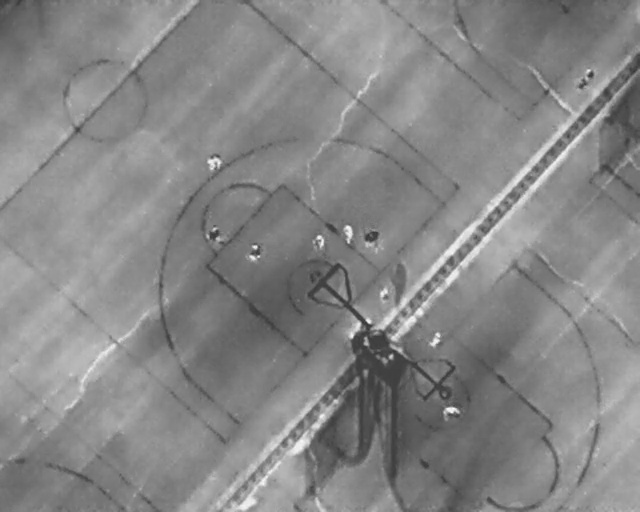Person: (570, 64, 597, 92), (427, 326, 444, 351), (365, 225, 380, 252), (206, 150, 222, 174), (248, 241, 263, 265), (442, 405, 460, 423), (207, 222, 220, 246), (312, 233, 326, 255), (343, 223, 353, 248), (378, 284, 390, 304)
